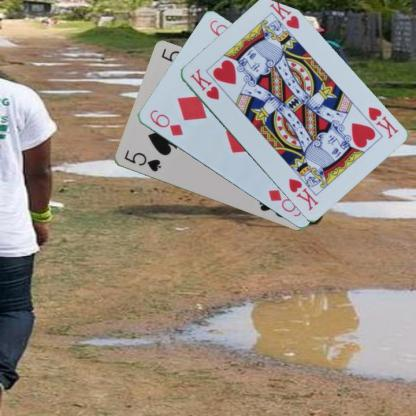5s: (122, 148, 162, 174)
6d: (147, 107, 184, 137)
Kh: (365, 104, 399, 140), (187, 66, 220, 101)
